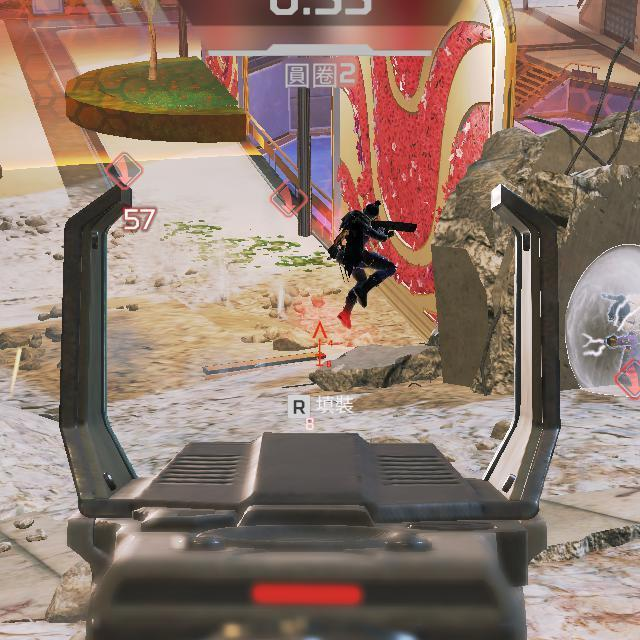avatar: (326, 198, 398, 331)
